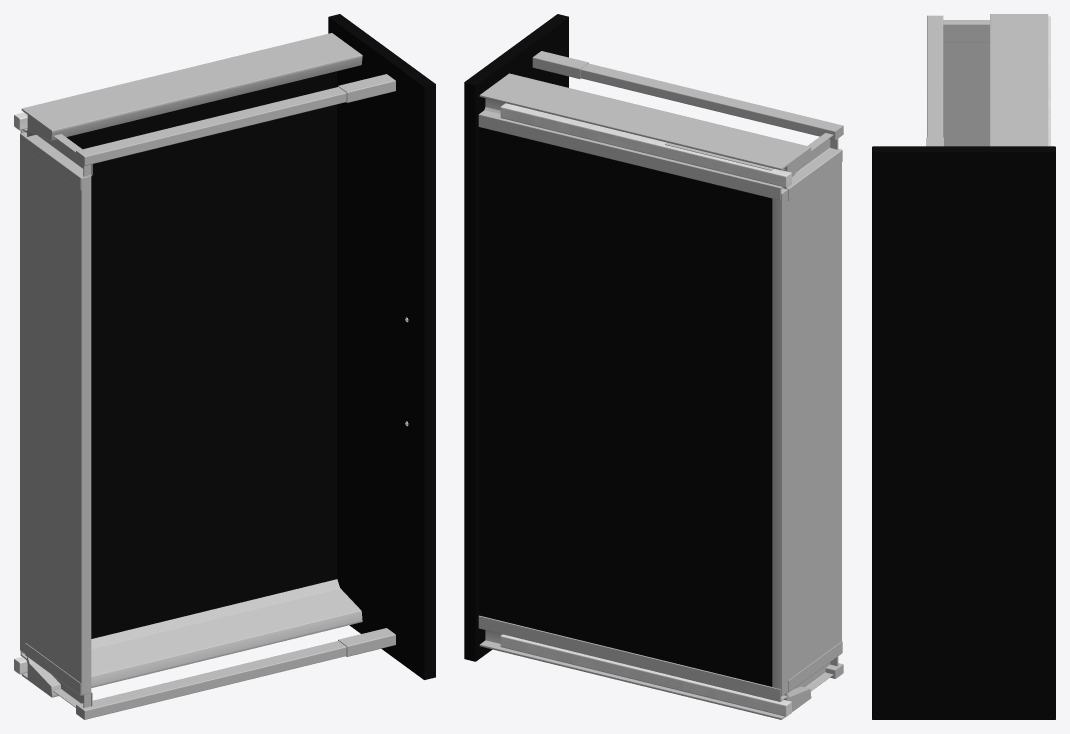
The model's file is Kitchen11Drawer02.obj.
The picture shows the model from 3 angles, left to right: view 1: azimuth 30°, elevation 25°; view 2: azimuth 150°, elevation 25°; view 3: azimuth 270°, elevation 25°; orthographic projection. The views are drawn at different scales.
Visible parts, largest first — view 1: Kitchen11Drawer02; view 2: Kitchen11Drawer02; view 3: Kitchen11Drawer02.
Part boxes in pixels (x1,y1,x2,y2): Kitchen11Drawer02: (14,14,435,719); Kitchen11Drawer02: (464,14,843,719); Kitchen11Drawer02: (872,14,1055,719).
Bounding box in the file's own units: 0.5199 × 0.8969 × 0.263.
Materials: 4 (1 with a texture image).
